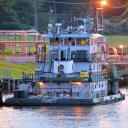tugboat: (3, 19, 128, 108)
